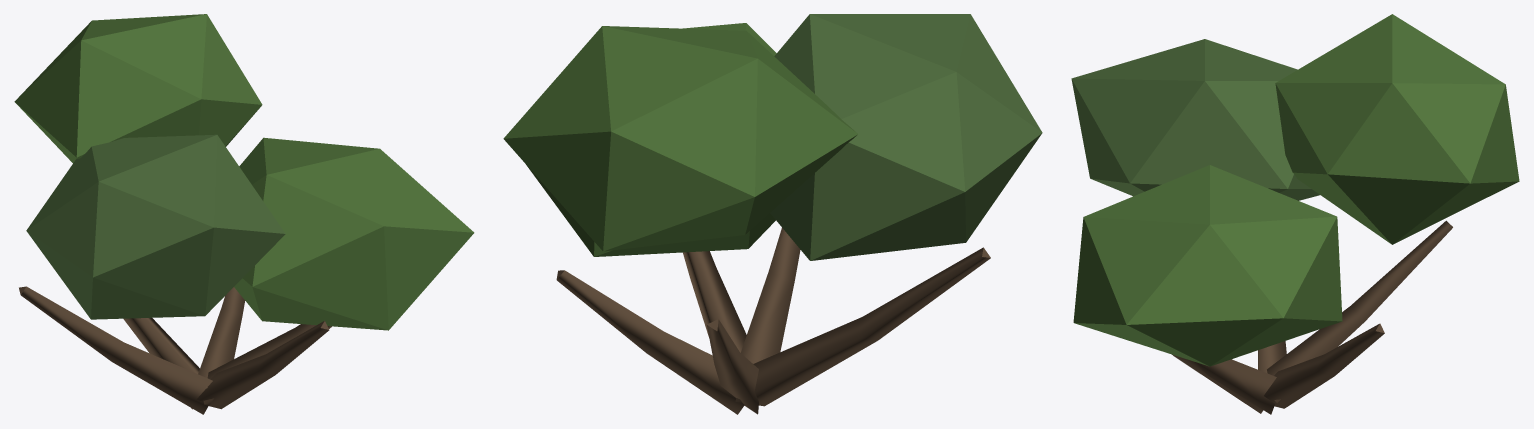
File: land-forest-11.glb
The picture shows the model from 3 angles, left to right: view 1: azimuth 30°, elevation 25°; view 2: azimuth 150°, elevation 25°; view 3: azimuth 270°, elevation 25°; orthographic projection. The views are drawn at different scales.
Parts seen in each view (by area): view 1: land.forest.11; view 2: land.forest.11; view 3: land.forest.11.
Part boxes in pixels (left/top/right/bottom): land.forest.11: left=14, top=14, right=474, bottom=414; land.forest.11: left=503, top=14, right=1042, bottom=414; land.forest.11: left=1071, top=14, right=1519, bottom=414.
Size of the model in its own units: 1.39 by 1.16 by 1.31.
